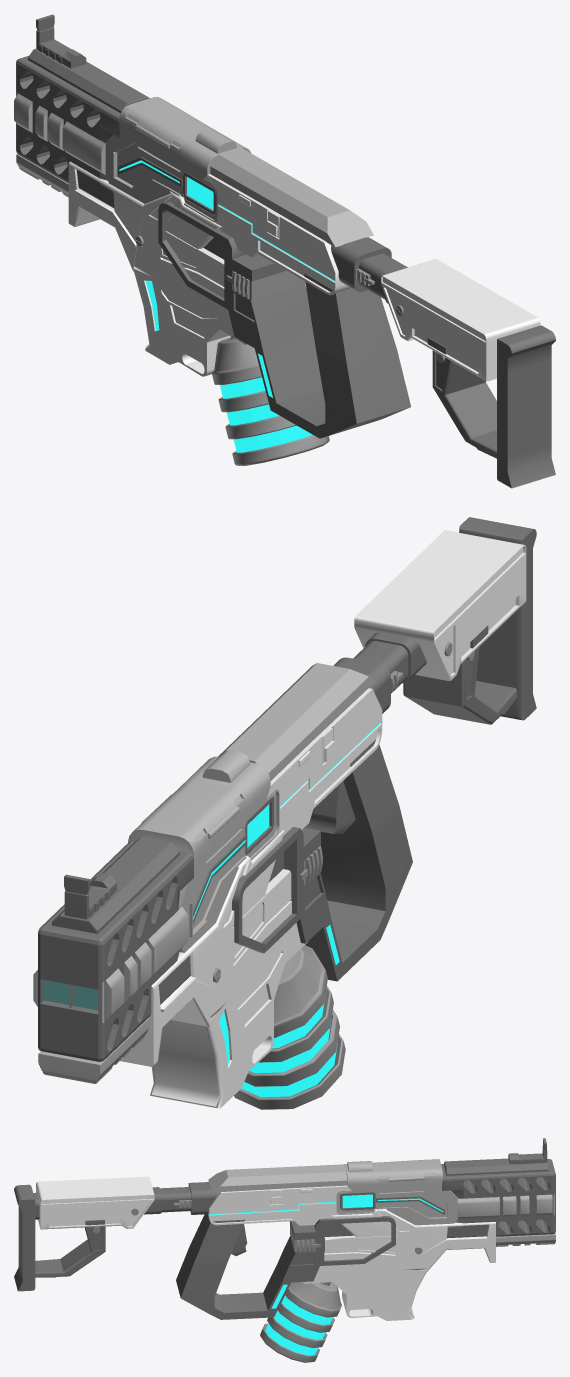
Rendered from smg.glb.
3 views of the same model, one above another, from view 1: azimuth 30°, elevation 25°; view 2: azimuth 150°, elevation 25°; view 3: azimuth 270°, elevation 25° (orthographic). The views are drawn at different scales.
Visible parts, largest first — view 1: triggerGaurd_GEO_0001, GEO_0001, frameRail_GEO_0001, slide_GEO_0001, boady_GEO_0001, shoulderRest_GEO_0001, chemicalMag_GEO_0001, body_GEO_0001, polymerFrame_GEO_0001, reciever_GEO_0001, shoulderRest_GEO_0002, frameRail_GEO_0002 (+6 smaller); view 2: triggerGaurd_GEO_0001, frameRail_GEO_0001, GEO_0001, slide_GEO_0001, polymerFrame_GEO_0001, boady_GEO_0001, chemicalMag_GEO_0001, reciever_GEO_0001, body_GEO_0001, shoulderRest_GEO_0001, shoulderRest_GEO_0002, frameRail_GEO_0002 (+6 smaller); view 3: triggerGaurd_GEO_0001, frameRail_GEO_0001, boady_GEO_0001, slide_GEO_0001, GEO_0001, chemicalMag_GEO_0001, polymerFrame_GEO_0001, body_GEO_0001, reciever_GEO_0001, shoulderRest_GEO_0001, frameRail_GEO_0002, shoulderRest_GEO_0002 (+8 smaller).
Boxes of the visible parts, left/top/right/bottom form: triggerGaurd_GEO_0001: left=158, top=201, right=410, bottom=438; GEO_0001: left=381, top=259, right=540, bottom=381; frameRail_GEO_0001: left=16, top=48, right=149, bottom=208; slide_GEO_0001: left=105, top=96, right=250, bottom=222; boady_GEO_0001: left=68, top=161, right=224, bottom=297; shoulderRest_GEO_0001: left=497, top=325, right=555, bottom=488; chemicalMag_GEO_0001: left=212, top=336, right=329, bottom=465; body_GEO_0001: left=203, top=174, right=371, bottom=295; polymerFrame_GEO_0001: left=133, top=268, right=247, bottom=376; reciever_GEO_0001: left=210, top=147, right=373, bottom=247; shoulderRest_GEO_0002: left=427, top=337, right=496, bottom=458; frameRail_GEO_0002: left=14, top=92, right=105, bottom=174; triggerGaurd_GEO_0001: left=232, top=739, right=412, bottom=981; frameRail_GEO_0001: left=38, top=836, right=193, bottom=1061; GEO_0001: left=354, top=530, right=526, bottom=681; slide_GEO_0001: left=128, top=750, right=279, bottom=952; polymerFrame_GEO_0001: left=150, top=923, right=307, bottom=1108; boady_GEO_0001: left=120, top=830, right=291, bottom=1066; chemicalMag_GEO_0001: left=234, top=945, right=345, bottom=1109; reciever_GEO_0001: left=218, top=663, right=375, bottom=780; body_GEO_0001: left=267, top=688, right=382, bottom=835; shoulderRest_GEO_0001: left=459, top=517, right=536, bottom=720; shoulderRest_GEO_0002: left=403, top=625, right=517, bottom=724; frameRail_GEO_0002: left=33, top=906, right=188, bottom=1022; triggerGaurd_GEO_0001: left=176, top=1214, right=395, bottom=1319; frameRail_GEO_0001: left=441, top=1158, right=555, bottom=1238; boady_GEO_0001: left=324, top=1209, right=495, bottom=1273; slide_GEO_0001: left=336, top=1159, right=458, bottom=1225; GEO_0001: left=36, top=1176, right=154, bottom=1229; chemicalMag_GEO_0001: left=260, top=1282, right=341, bottom=1362; polymerFrame_GEO_0001: left=303, top=1263, right=426, bottom=1320; body_GEO_0001: left=208, top=1185, right=351, bottom=1225; reciever_GEO_0001: left=208, top=1164, right=347, bottom=1192; shoulderRest_GEO_0001: left=14, top=1184, right=35, bottom=1291; frameRail_GEO_0002: left=457, top=1194, right=554, bottom=1219; shoulderRest_GEO_0002: left=35, top=1220, right=105, bottom=1277.
Bounding box in the file's own units: 0.2124 × 0.4827 × 1.16.
